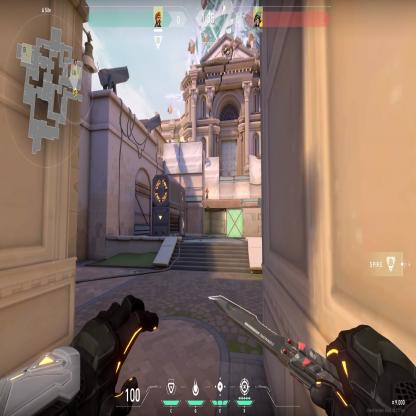enemy: (204, 186, 209, 200)
